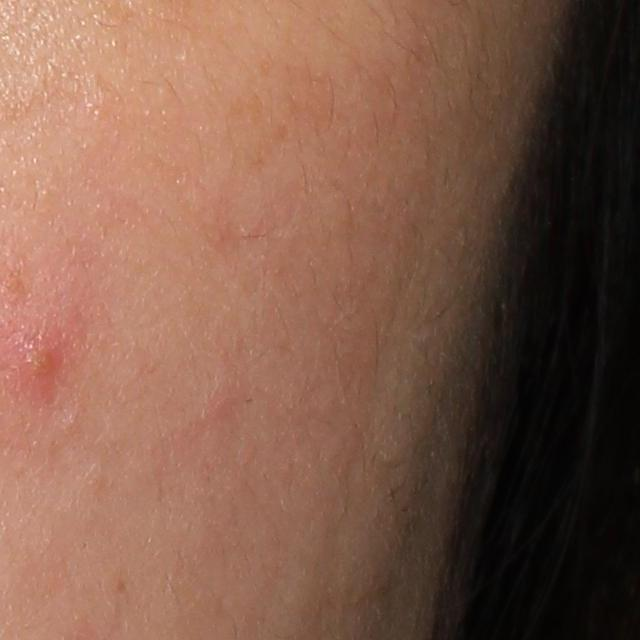papule: (18, 337, 66, 384)
